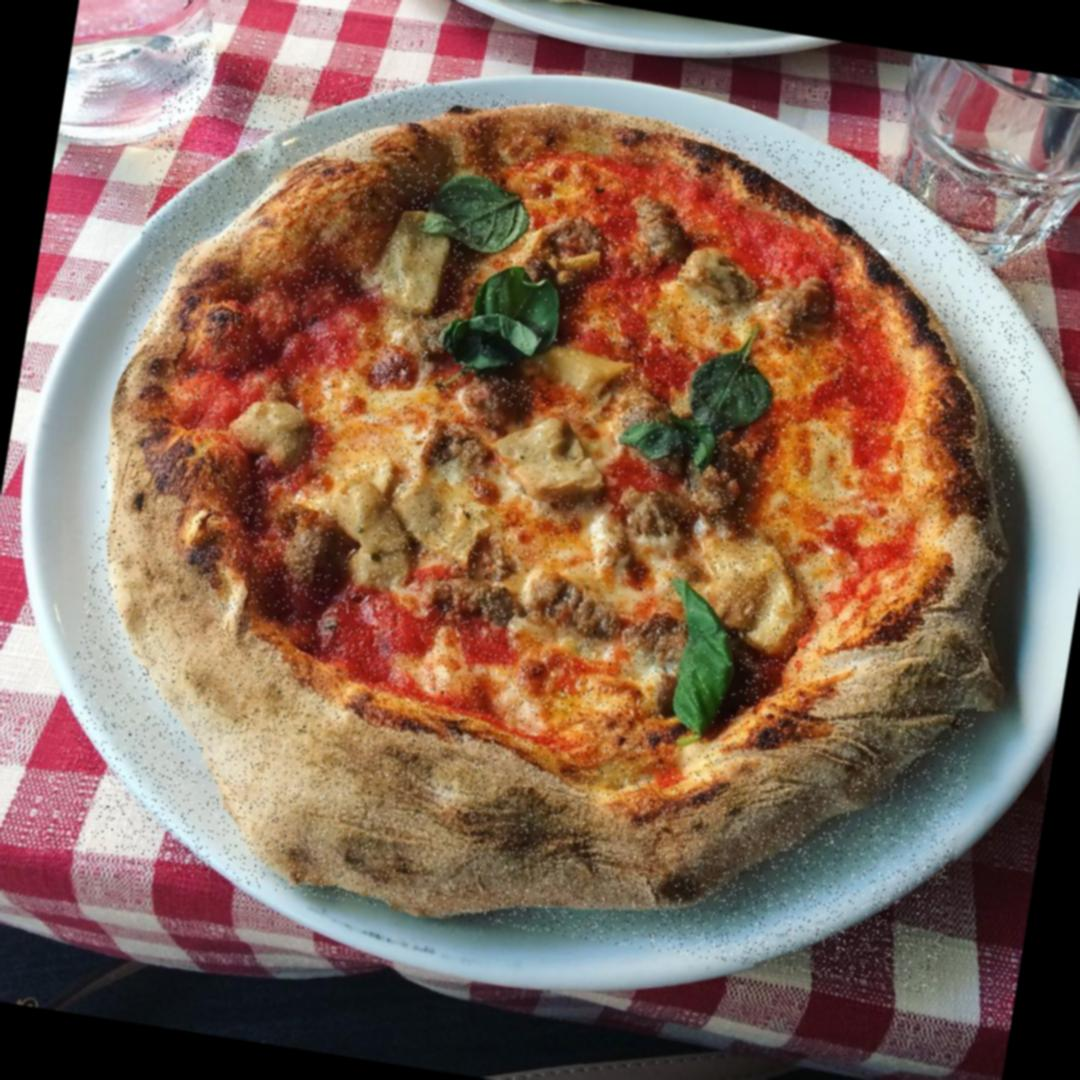Basil: (652, 575, 751, 742), (417, 159, 539, 264), (682, 329, 778, 436), (433, 315, 552, 384), (468, 270, 568, 346), (624, 406, 721, 476)
Cheese: (378, 437, 508, 576), (307, 474, 431, 601), (483, 406, 614, 516), (498, 558, 638, 650), (717, 534, 832, 644), (573, 476, 693, 572), (513, 200, 619, 295), (371, 209, 464, 317), (220, 386, 312, 481), (625, 194, 696, 274), (539, 335, 624, 400), (678, 242, 754, 309), (762, 273, 837, 340)
Pizza: (44, 43, 1062, 995)
